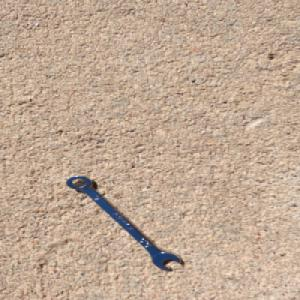Wrench: (64, 174, 185, 272)
